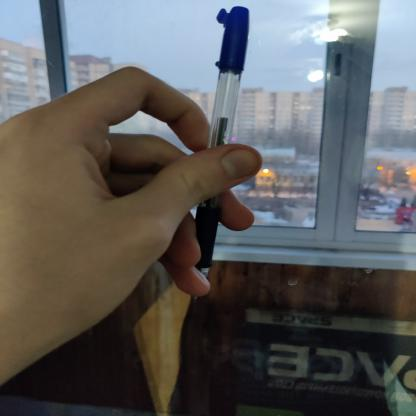pen: (150, 6, 258, 318)
